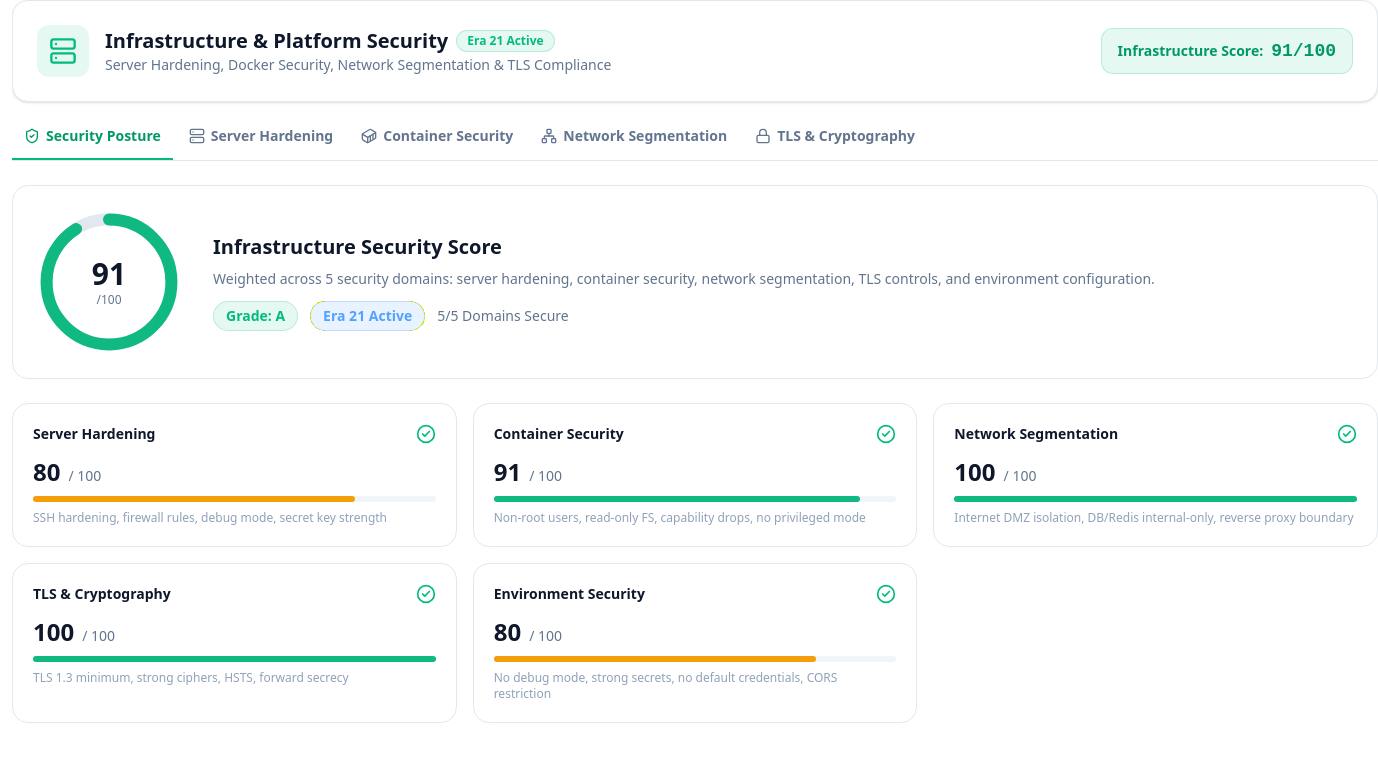
Test case: InfrastructureSecurityDashboard › clicking TLS tab shows TLS controls
Click the button "TLS & Cryptography": coordinates (835, 143) [743,126,927,160]
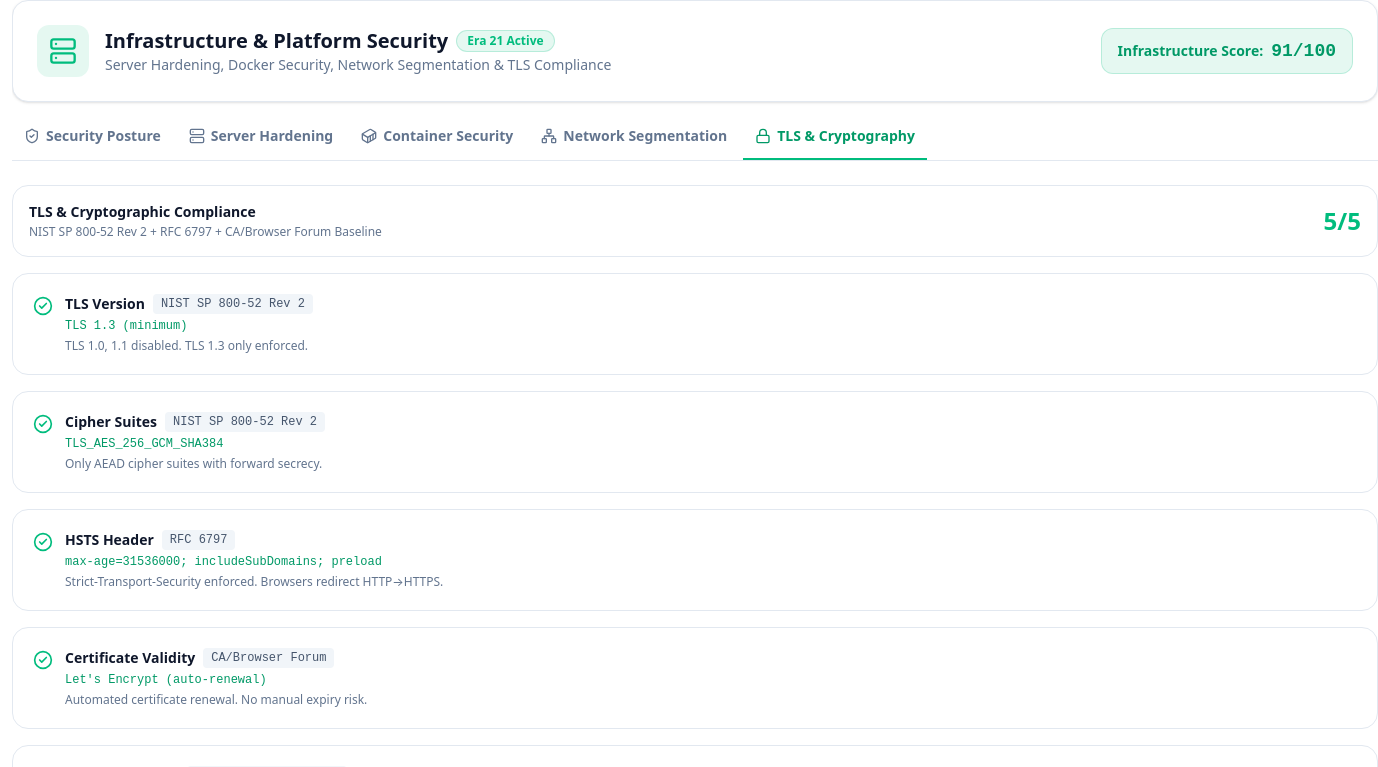
Result: the text "TLS Version" is shown at [65,294,145,314]
Result: the text "HSTS Header" is shown at [65,530,154,550]
Result: the text "Only AEAD cipher suites with forward secrecy." is shown at [65,455,322,472]
